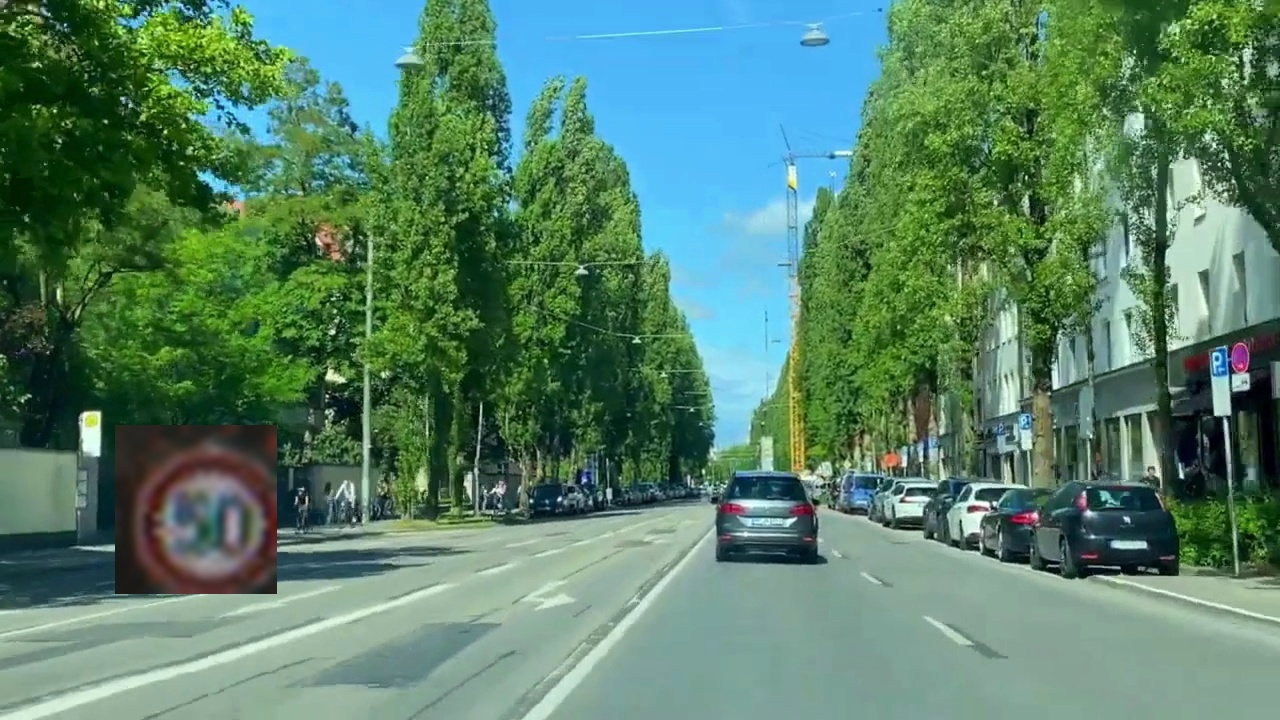Speed 50: (115, 425, 277, 594)
